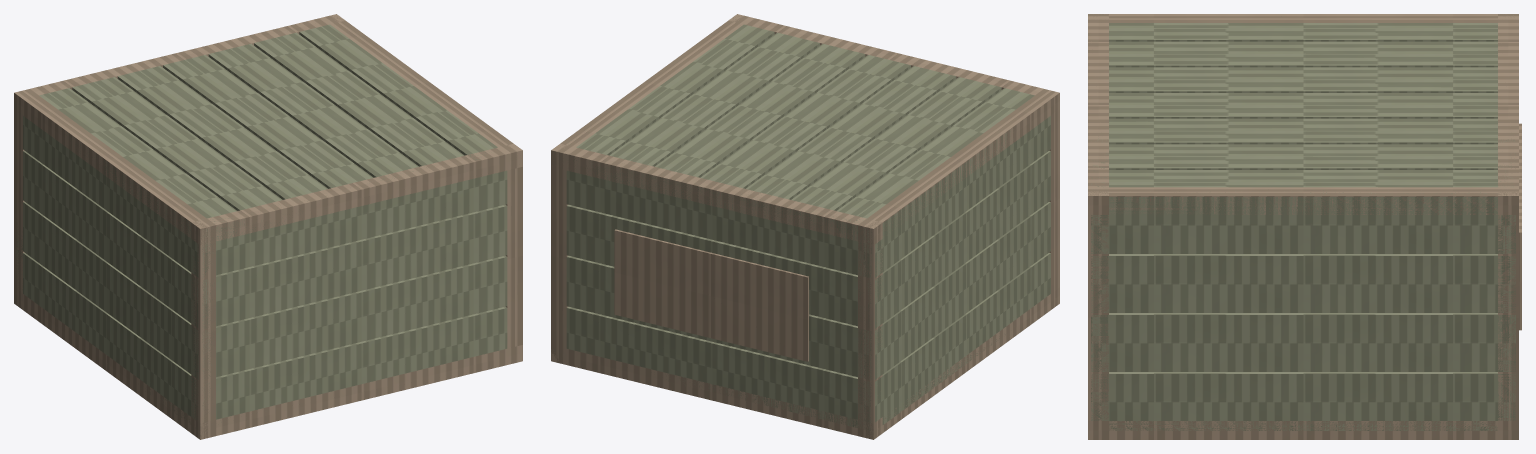
File: crate-09.glb
The picture shows the model from 3 angles, left to right: view 1: azimuth 30°, elevation 25°; view 2: azimuth 150°, elevation 25°; view 3: azimuth 270°, elevation 25°; orthographic projection. The views are drawn at different scales.
Parts seen in each view (by area): view 1: crate_09; view 2: crate_09; view 3: crate_09.
Part boxes in pixels (x1,y1,x2,y2): crate_09: (14,14,522,439); crate_09: (551,14,1059,439); crate_09: (1088,14,1521,439).
Bounding box in the file's own units: 1.44 × 0.9 × 1.45.
2 materials, 2 textured.
